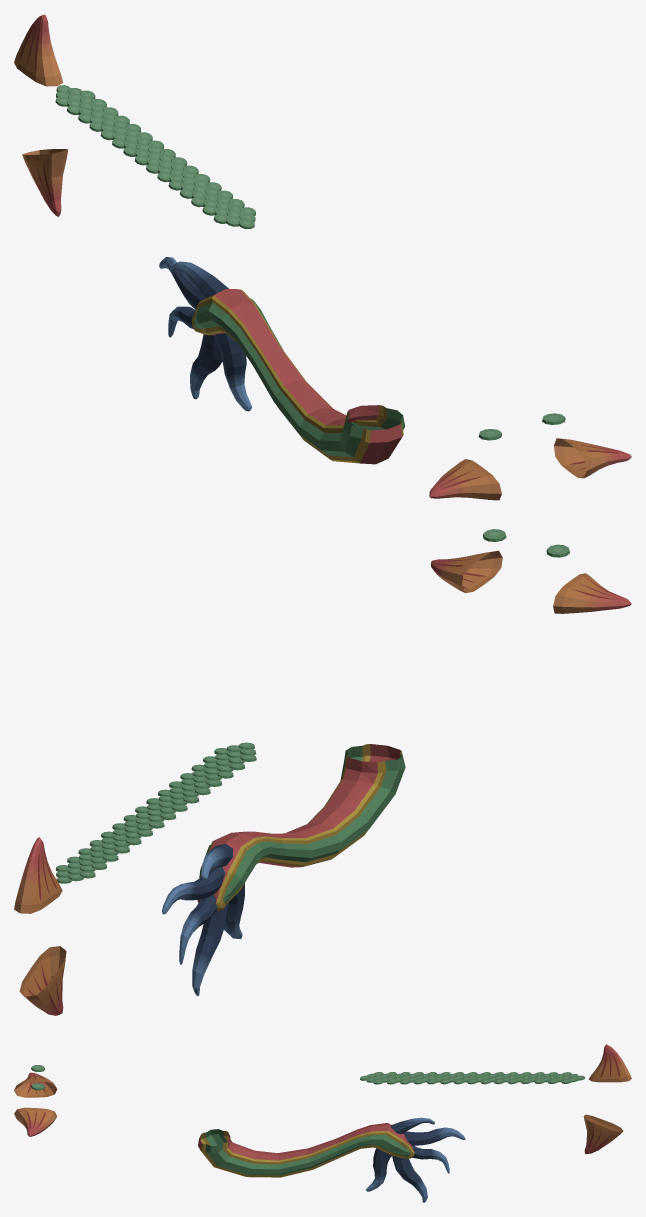
Rendered from largeCrossbowChineseDragonHandle.glb.
3 renders of one model, top to bottom at view 1: azimuth 30°, elevation 25°; view 2: azimuth 150°, elevation 25°; view 3: azimuth 270°, elevation 25°, orthographic. The views are drawn at different scales.
Parts seen in each view (by area): view 1: largeCrossbowChineseDragonHandle; view 2: largeCrossbowChineseDragonHandle; view 3: largeCrossbowChineseDragonHandle.
Boxes of the visible parts, bbox=[...] form: largeCrossbowChineseDragonHandle: bbox=[14, 14, 631, 500]; largeCrossbowChineseDragonHandle: bbox=[14, 529, 631, 1015]; largeCrossbowChineseDragonHandle: bbox=[14, 1044, 631, 1202].
Bounding box in the file's own units: 0.1701 × 0.2185 × 0.7662.
